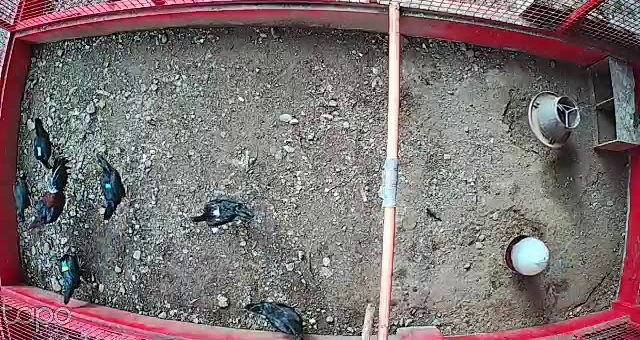Chicken: (95, 150, 141, 225), (240, 296, 309, 340), (188, 195, 261, 231), (59, 245, 92, 309), (31, 117, 67, 173), (12, 164, 38, 226)
Rooster: (29, 154, 77, 230)
Saddle_Color_Blue: (106, 183, 113, 189)
Saddle_Color_White: (37, 147, 42, 156)
Saddle_Color_YellowGreen: (61, 260, 70, 273)
